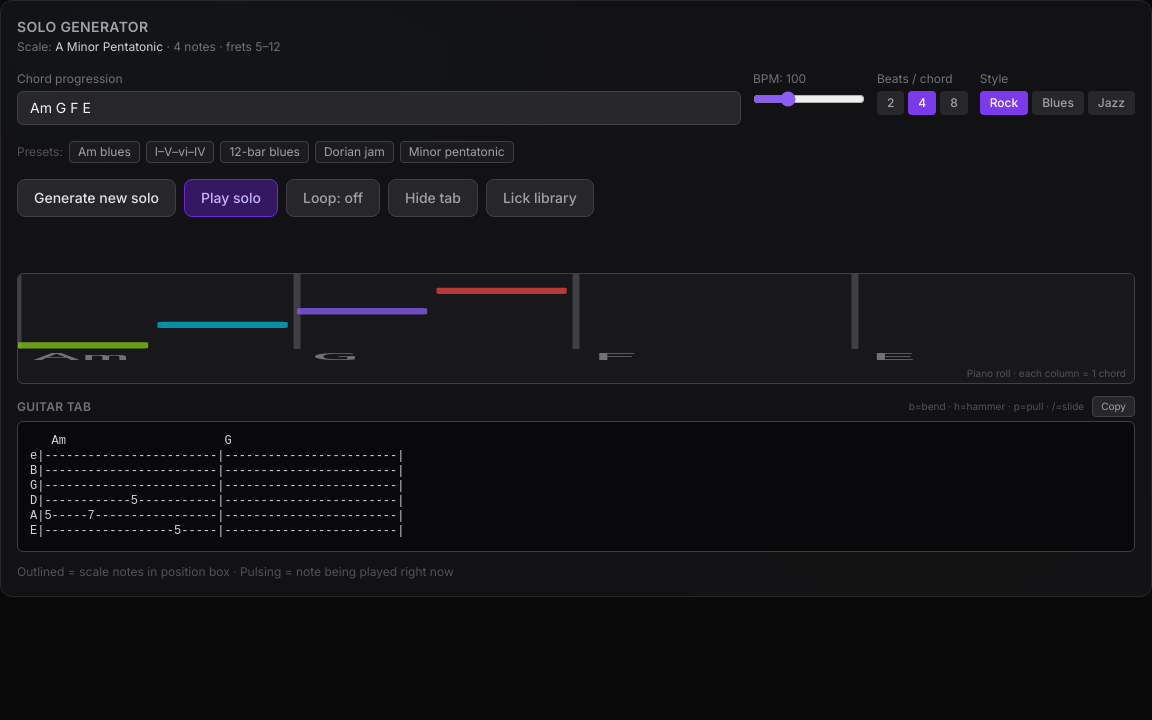
SoloGenerator › clicking a preset populates the chord input
The image size is (1152, 720).
Click the button "I–V–vi–IV" at (180, 152), box [146,141,214,163]
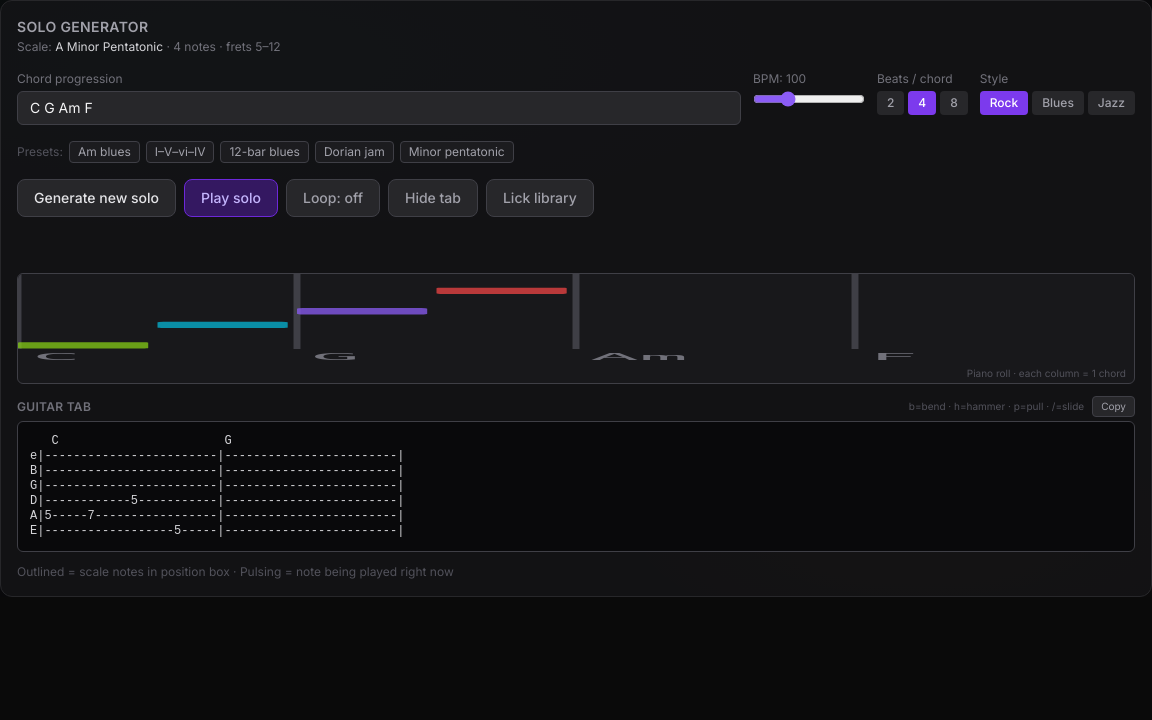
Result: the field holds "C G Am F" at [17,91,741,125]
